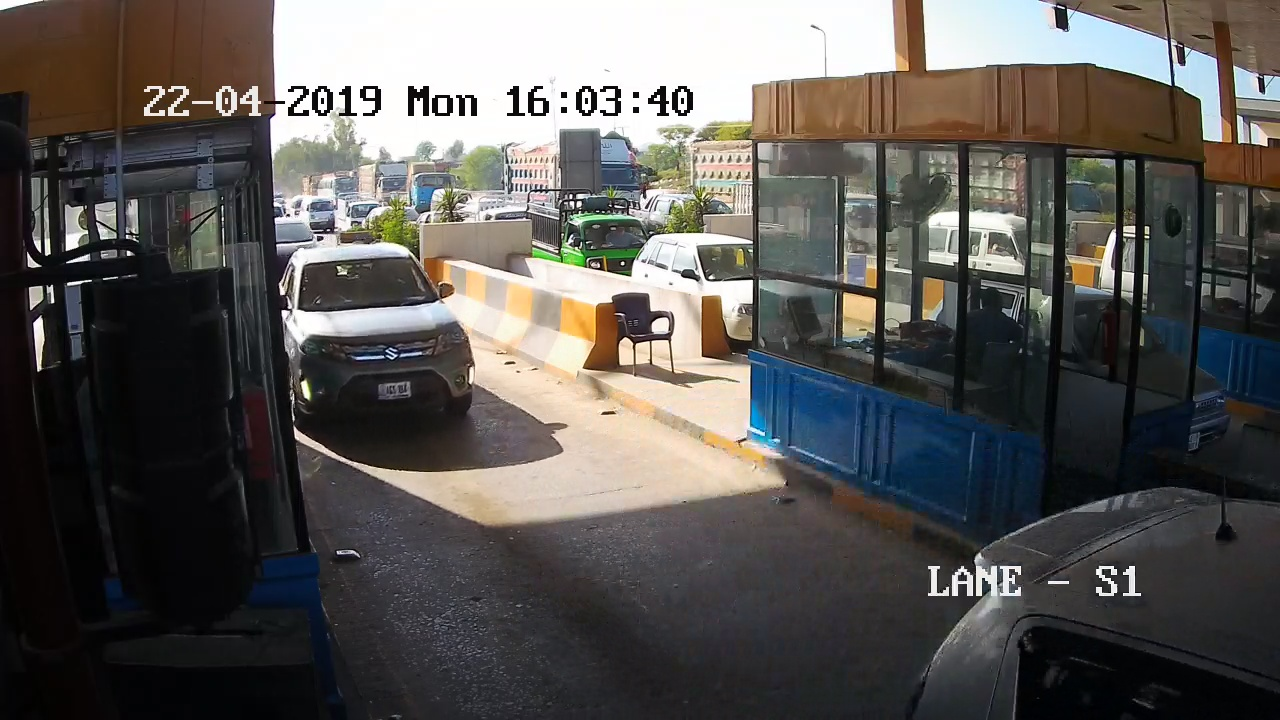Number Plate (Car): (375, 383, 413, 400)
